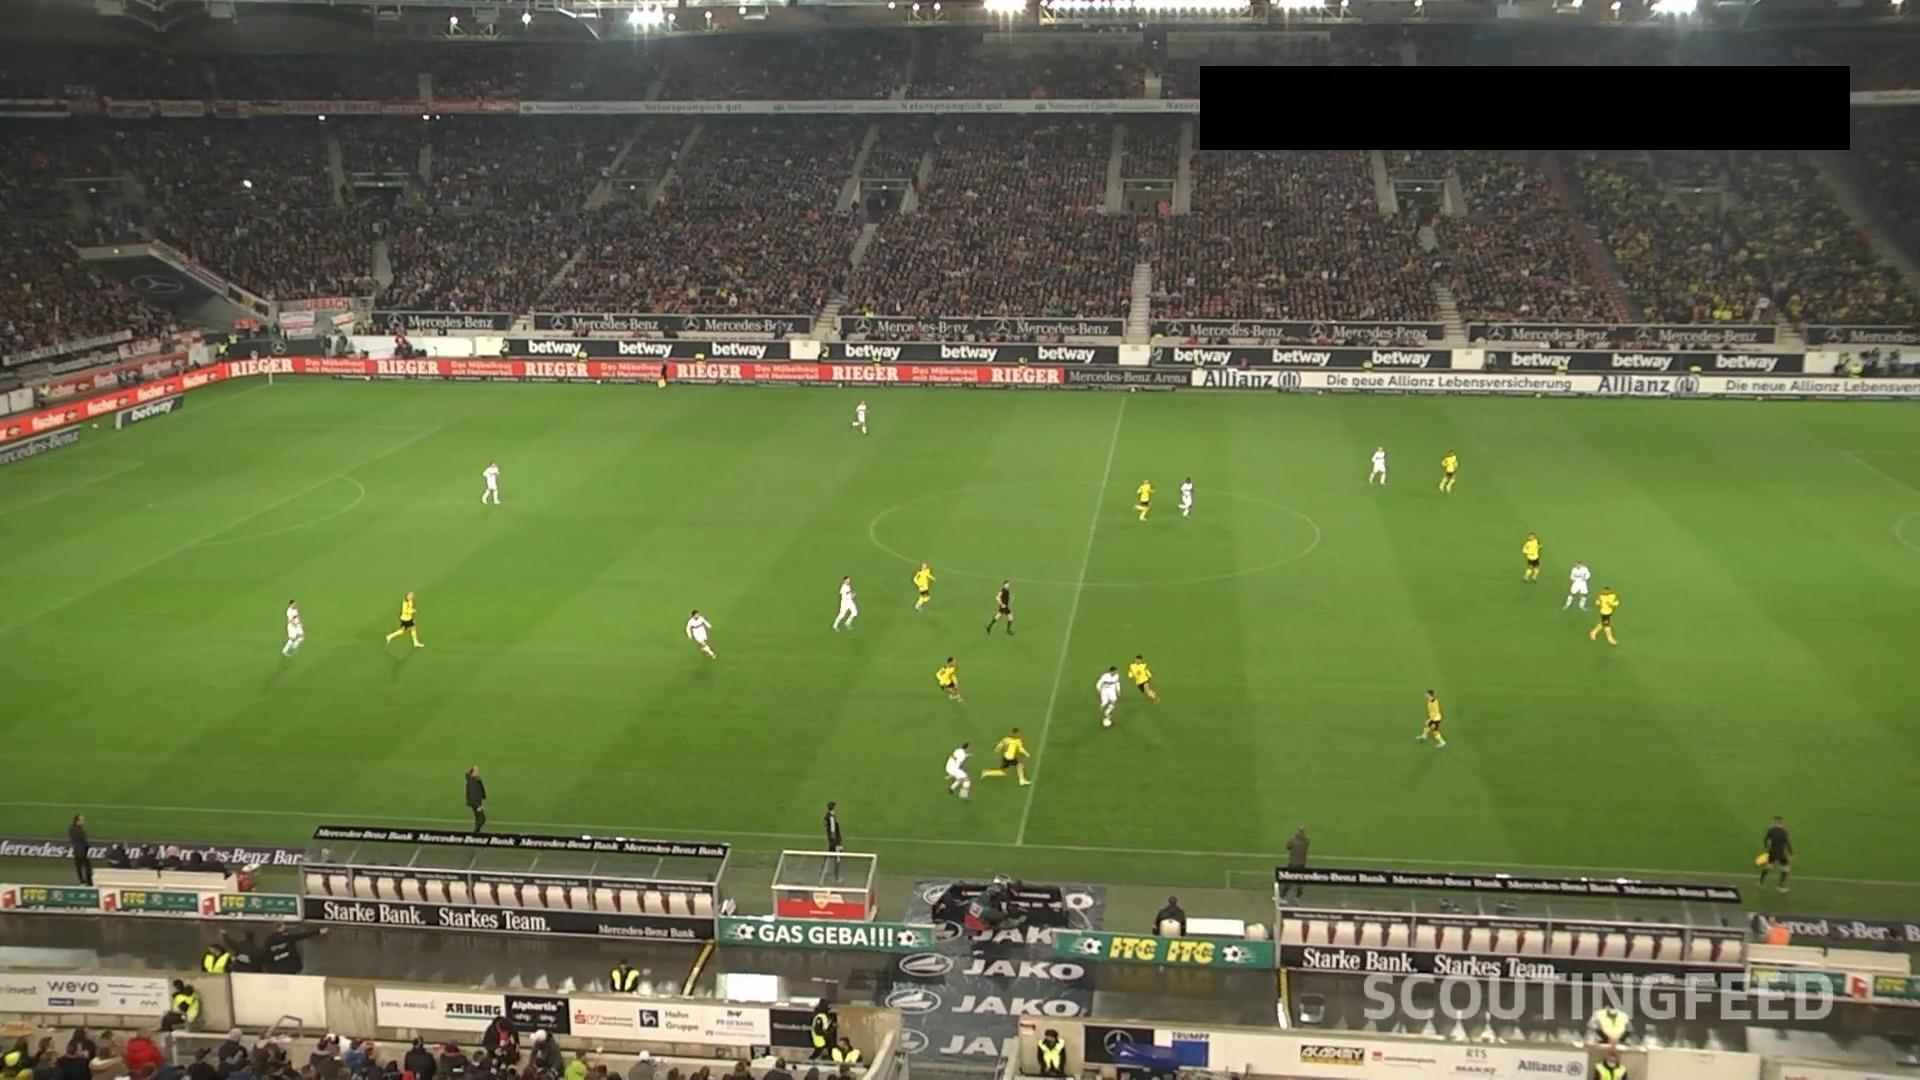ball: (1102, 716, 1113, 728)
